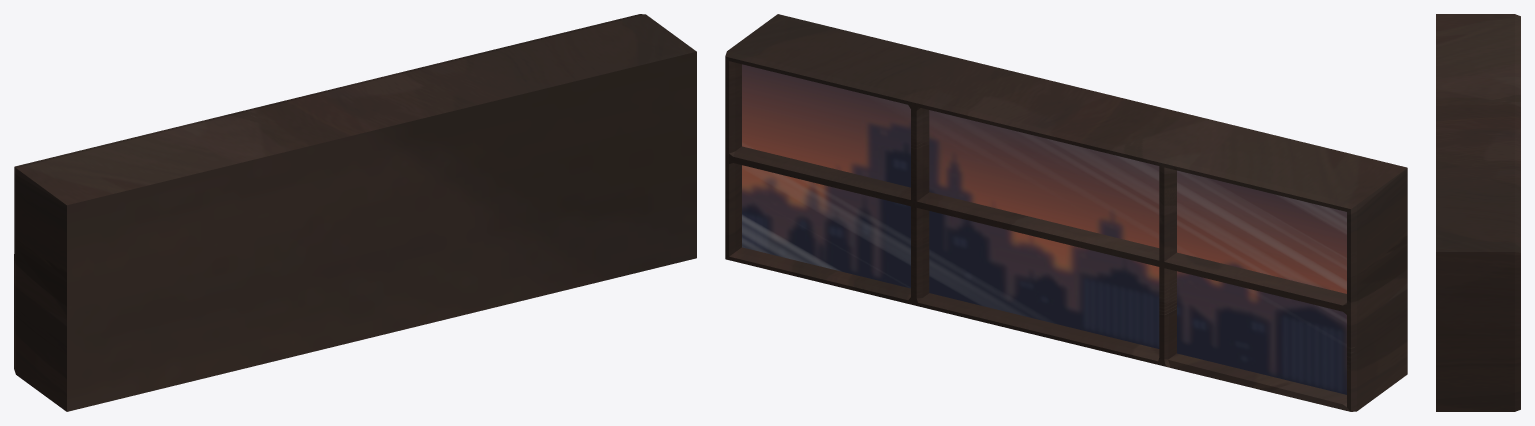
Rendered from window 2.fbx.
The picture shows the model from 3 angles, left to right: view 1: azimuth 30°, elevation 25°; view 2: azimuth 150°, elevation 25°; view 3: azimuth 270°, elevation 25°; orthographic projection. The views are drawn at different scales.
Visible parts, largest first — view 1: Plane; view 2: Plane; view 3: Plane.
Boxes of the visible parts, left/top/right/bottom form: Plane: left=14, top=14, right=696, bottom=411; Plane: left=725, top=14, right=1407, bottom=411; Plane: left=1436, top=14, right=1520, bottom=411.
Bounding box in the file's own units: 412 × 129 × 62.14.
1 material, 1 textured.
